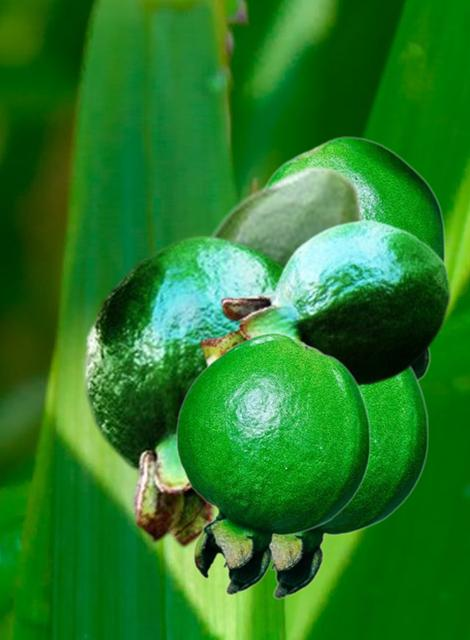guava: (83, 233, 285, 547), (175, 332, 370, 594), (263, 136, 445, 380), (199, 218, 450, 388), (269, 366, 428, 598), (208, 163, 369, 262)
